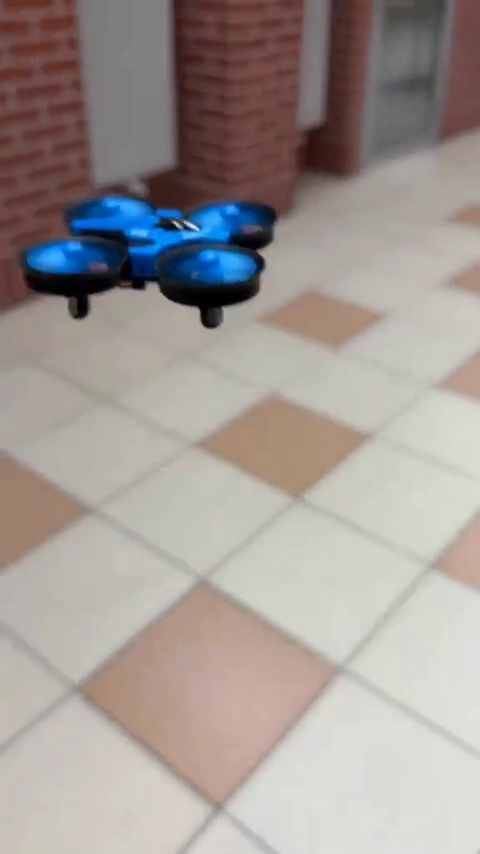drone: (24, 184, 292, 336)
